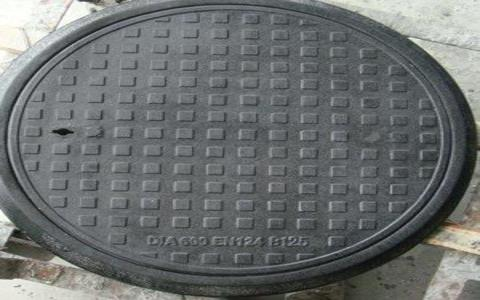proper manhole: (1, 1, 472, 295)
